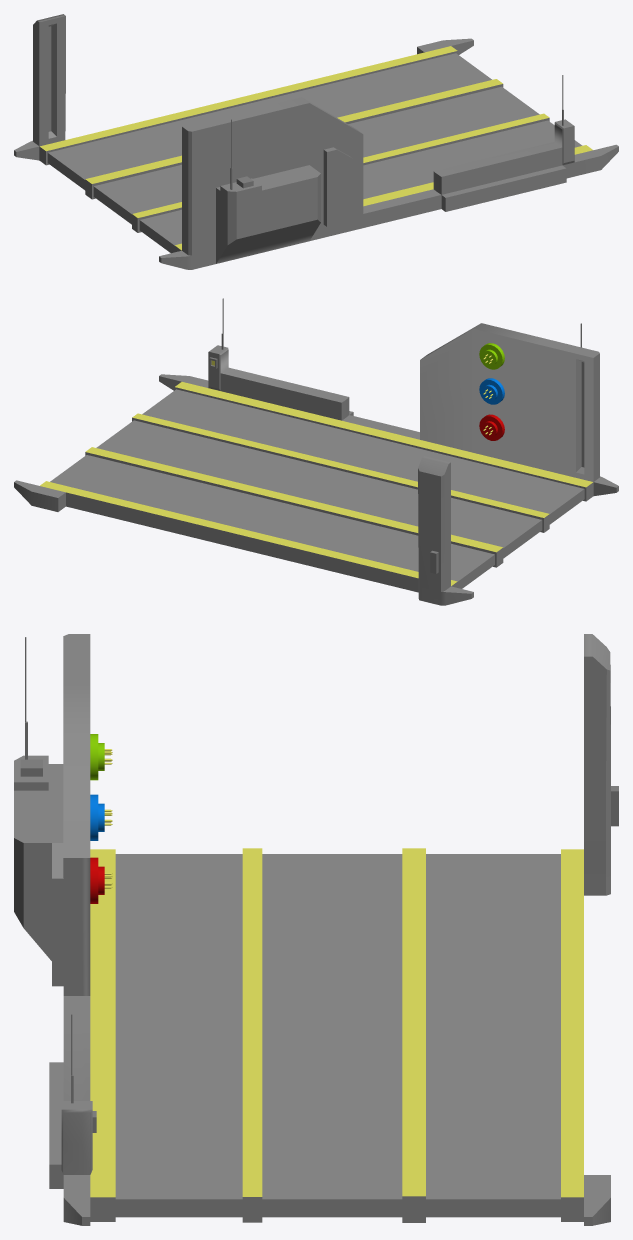
Rendered from diode_Final.fbx.
3 views of the same model, one above another, from view 1: azimuth 30°, elevation 25°; view 2: azimuth 150°, elevation 25°; view 3: azimuth 270°, elevation 25° (orthographic). The views are drawn at different scales.
Parts seen in each view (by area): view 1: diode, pCube1; view 2: diode; view 3: diode, pCube1.
Part boxes in pixels (<box>): diode: <box>14,14,618,269</box>; pCube1: <box>323,147,352,226</box>; diode: <box>14,323,618,605</box>; diode: <box>14,634,610,1225</box>; pCube1: <box>52,834,63,986</box>.
Size of the model in its own units: 5.92 by 1.88 by 3.91.
